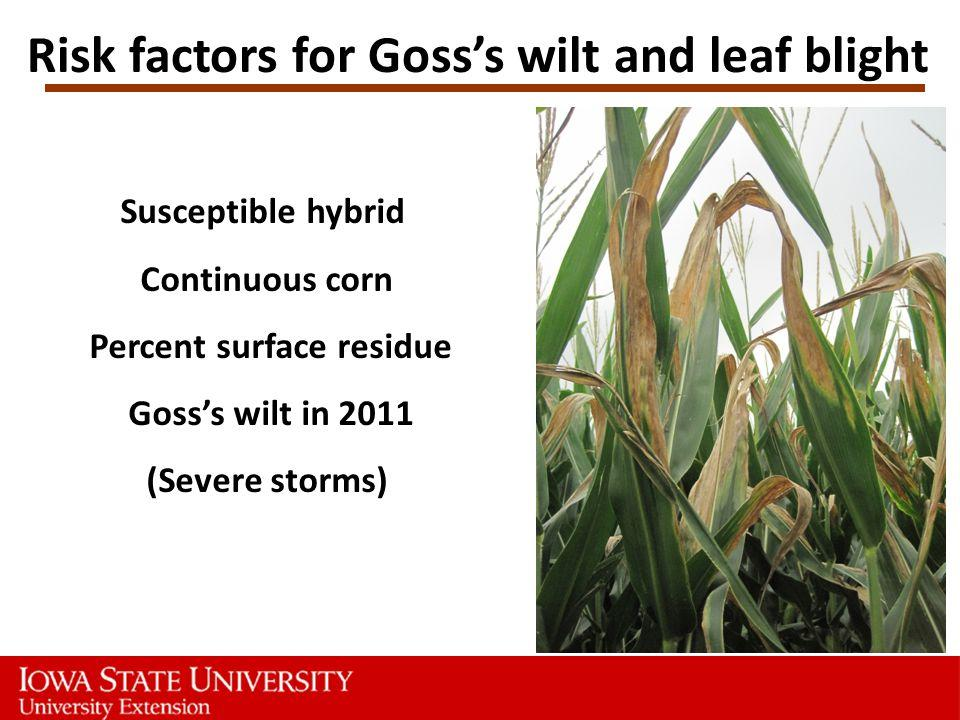Corn leaf blight: (722, 175, 891, 560), (606, 109, 703, 622), (810, 252, 951, 456), (680, 352, 766, 653), (651, 185, 719, 492)
